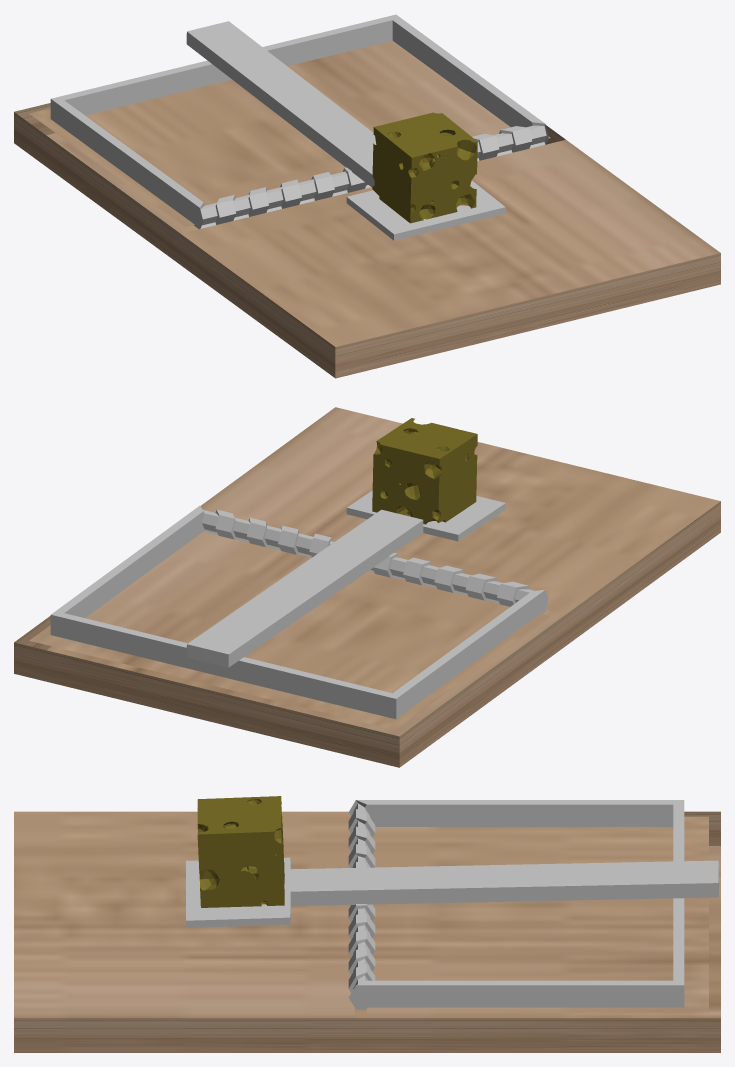
File: mouse trap.fbx
3 views of the same model, one above another, from view 1: azimuth 30°, elevation 25°; view 2: azimuth 150°, elevation 25°; view 3: azimuth 270°, elevation 25° (orthographic). The views are drawn at different scales.
Parts seen in each view (by area): view 1: Cube, Cube.001, Cube.002, Cube.003; view 2: Cube, Cube.001, Cube.002, Cube.003; view 3: Cube, Cube.001, Cube.002, Cube.003.
Part boxes in pixels (bbox=[...]): Cube: bbox=[14, 40, 720, 378]; Cube.001: bbox=[50, 14, 548, 229]; Cube.002: bbox=[186, 21, 505, 240]; Cube.003: bbox=[372, 112, 477, 223]; Cube: bbox=[14, 407, 720, 767]; Cube.001: bbox=[50, 505, 548, 719]; Cube.002: bbox=[186, 490, 505, 667]; Cube.003: bbox=[372, 418, 477, 524]; Cube: bbox=[14, 811, 720, 1052]; Cube.001: bbox=[348, 800, 684, 1009]; Cube.002: bbox=[186, 857, 718, 927]; Cube.003: bbox=[197, 796, 284, 907].
Size of the model in its own units: 200 by 61.22 by 289.
